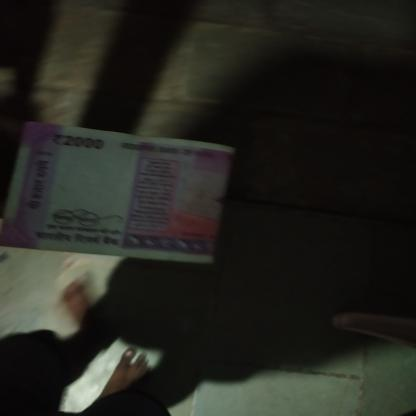New2000Back: (4, 124, 231, 263)
